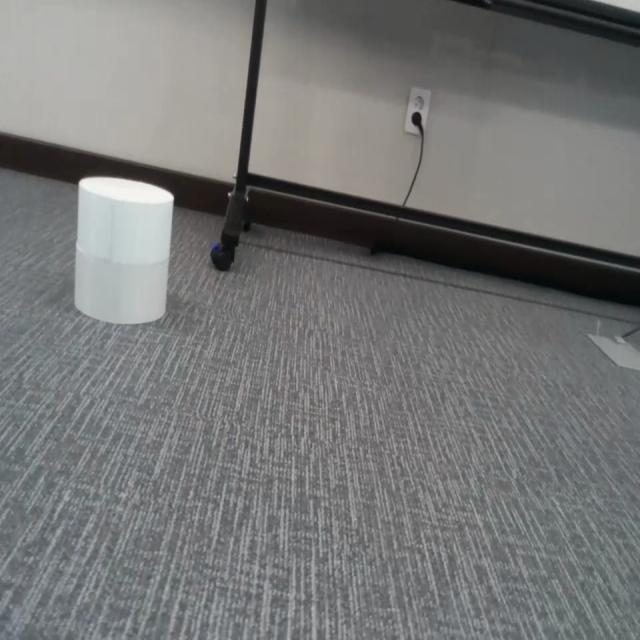cylinder: (74, 175, 174, 325)
